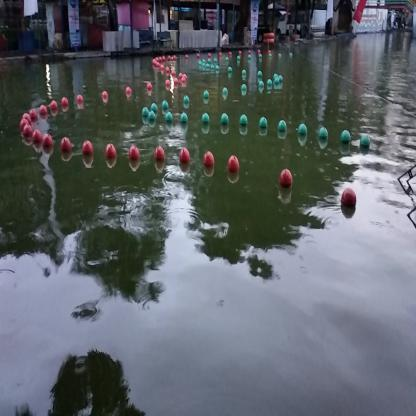green_buoy: (360, 133, 369, 149), (318, 128, 328, 142), (340, 129, 350, 143), (276, 122, 286, 134), (181, 114, 189, 128), (298, 124, 307, 136), (202, 115, 210, 127), (143, 108, 150, 121), (240, 116, 247, 128), (259, 119, 266, 131), (161, 100, 169, 110), (222, 116, 229, 127), (151, 101, 157, 113), (165, 112, 171, 124), (150, 114, 156, 125), (240, 87, 246, 96), (183, 97, 189, 106), (222, 91, 228, 98), (203, 93, 208, 101)
red_buoy: (278, 170, 292, 196), (342, 189, 355, 212), (228, 155, 238, 181), (178, 149, 190, 169), (203, 153, 213, 171), (106, 142, 116, 158), (129, 147, 139, 163), (32, 131, 42, 146), (62, 137, 72, 152), (155, 147, 164, 163), (84, 142, 92, 157), (43, 136, 51, 146), (24, 124, 30, 135)
